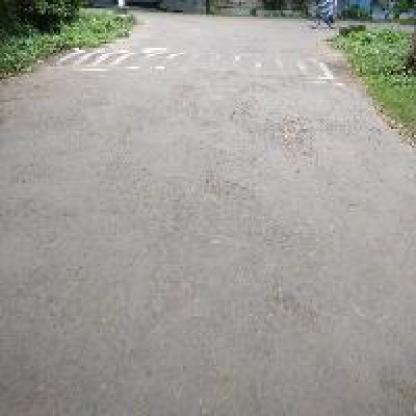Speed Bump: (50, 42, 349, 88)
